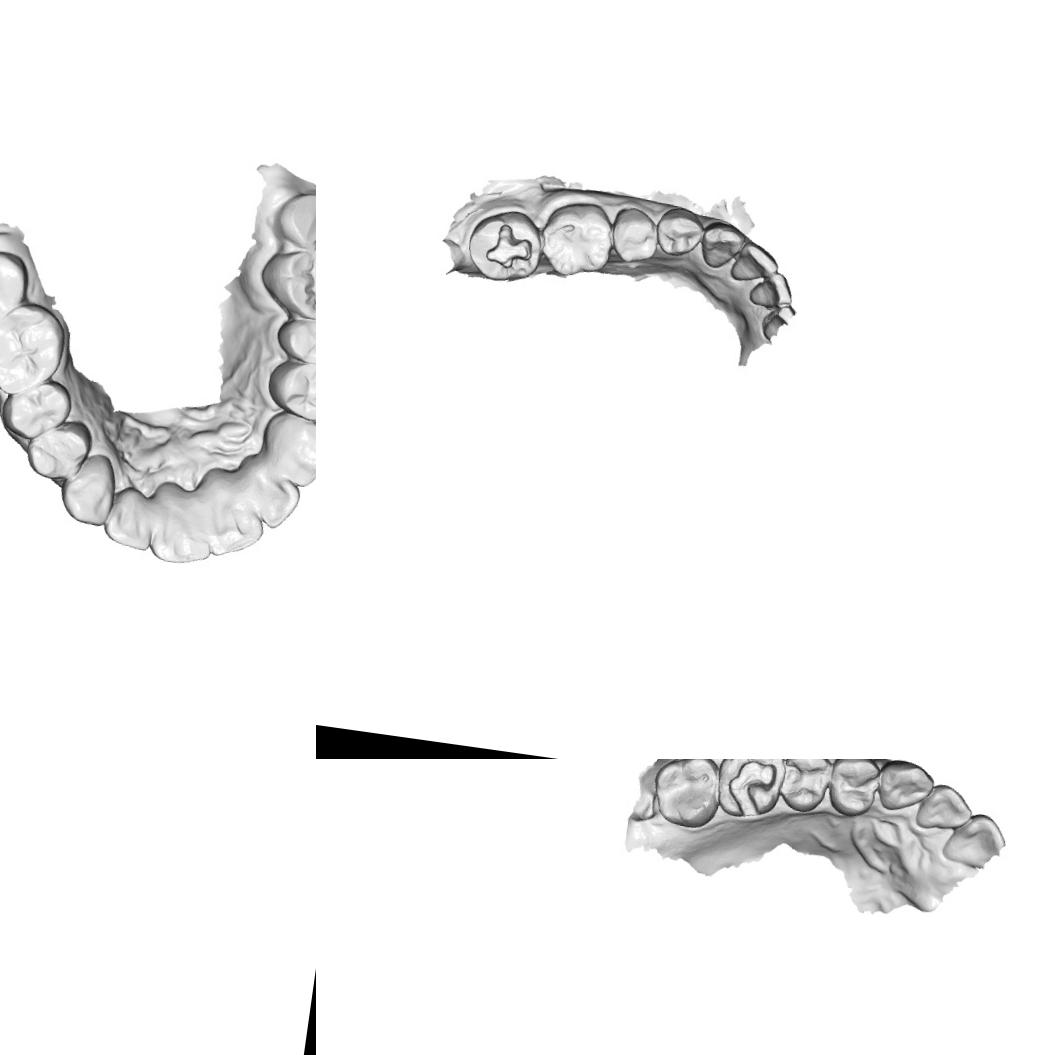canine: (55, 448, 120, 529), (255, 410, 316, 492), (872, 759, 938, 817), (696, 218, 746, 274)
incisor: (192, 465, 272, 563), (144, 476, 222, 570), (235, 464, 306, 532), (102, 482, 165, 554), (940, 809, 1010, 873), (914, 780, 977, 836), (726, 236, 782, 288), (746, 268, 796, 310), (761, 302, 795, 345)
inlay: (722, 759, 780, 822), (479, 220, 538, 276)
molar: (0, 295, 72, 402), (535, 195, 618, 282), (648, 759, 725, 833), (253, 244, 316, 324), (269, 186, 316, 261), (0, 243, 34, 341)
premolar: (0, 372, 77, 446), (20, 412, 95, 486), (261, 354, 316, 426), (823, 759, 884, 822), (606, 204, 662, 268), (776, 759, 837, 817), (654, 202, 706, 260), (271, 311, 316, 371)
